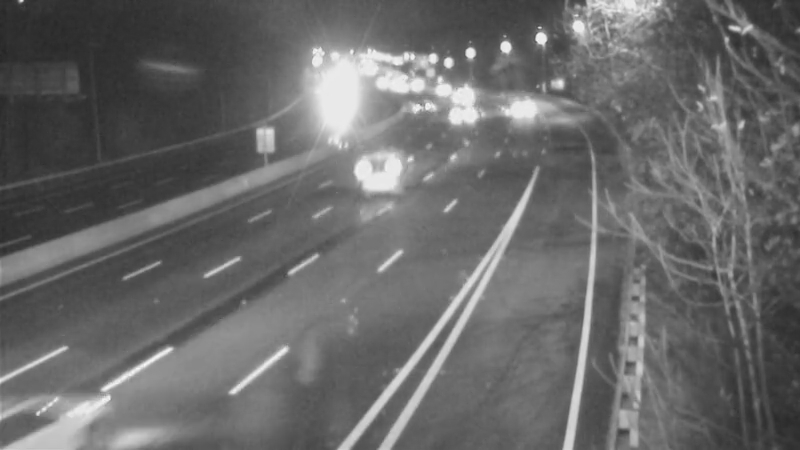vehicle: (1, 351, 103, 450), (344, 126, 424, 206), (410, 66, 460, 116), (431, 74, 481, 124), (397, 76, 447, 126), (488, 81, 538, 131), (432, 87, 482, 137)
